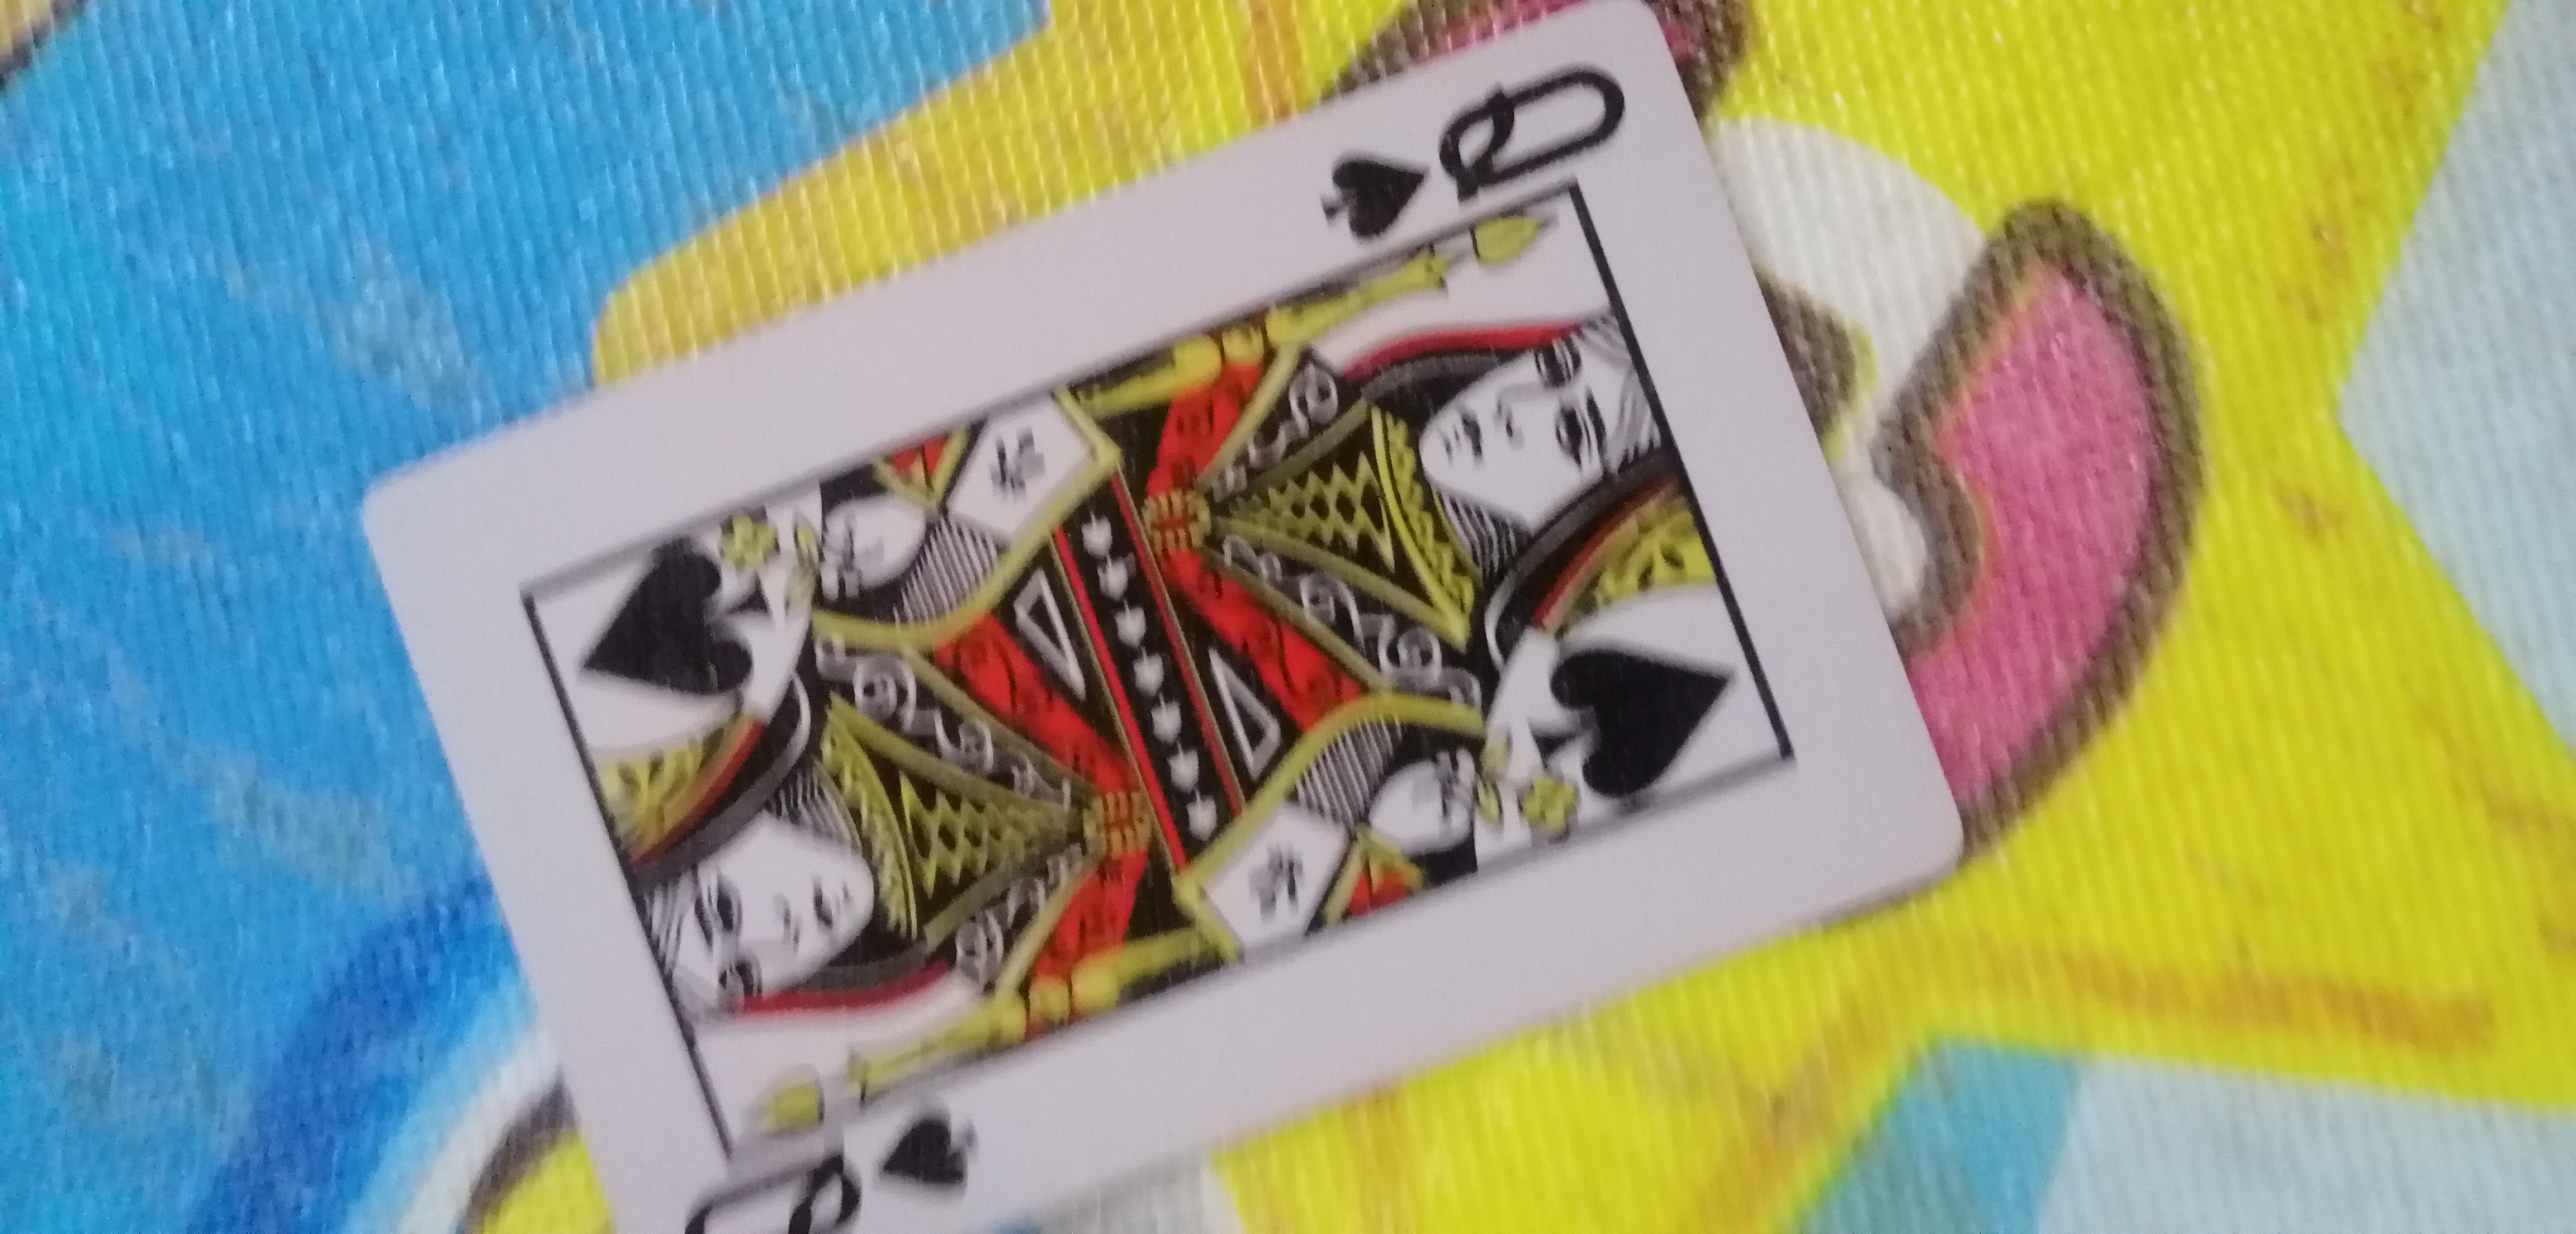queen: (345, 30, 2063, 1234)
